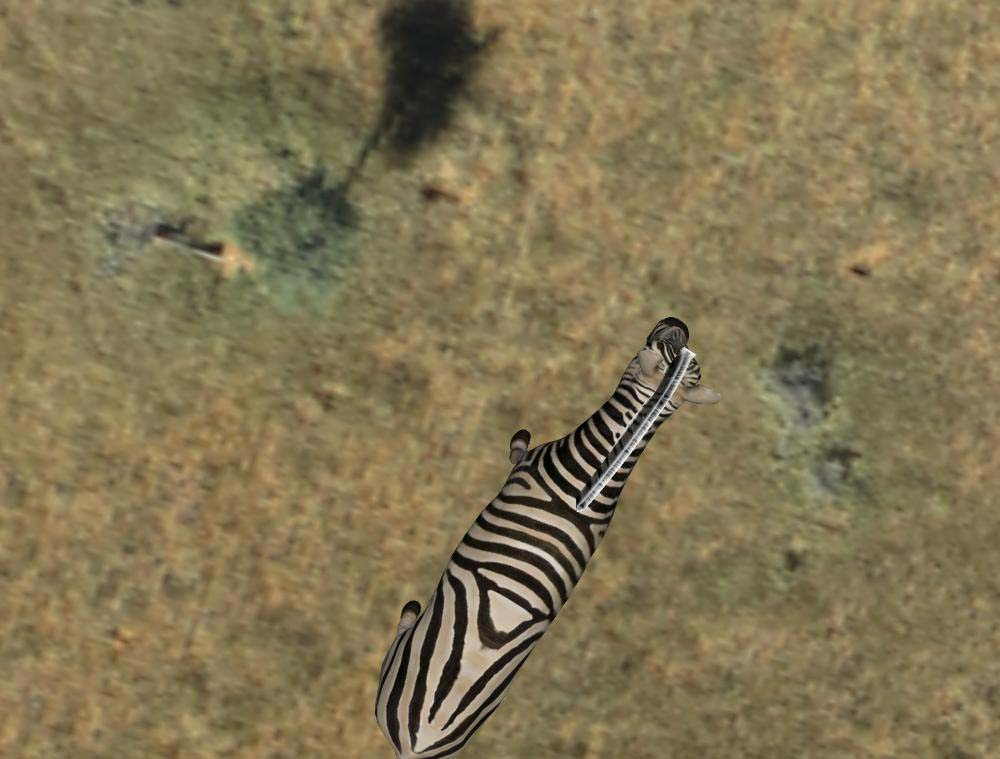zebra: (367, 307, 706, 759)
